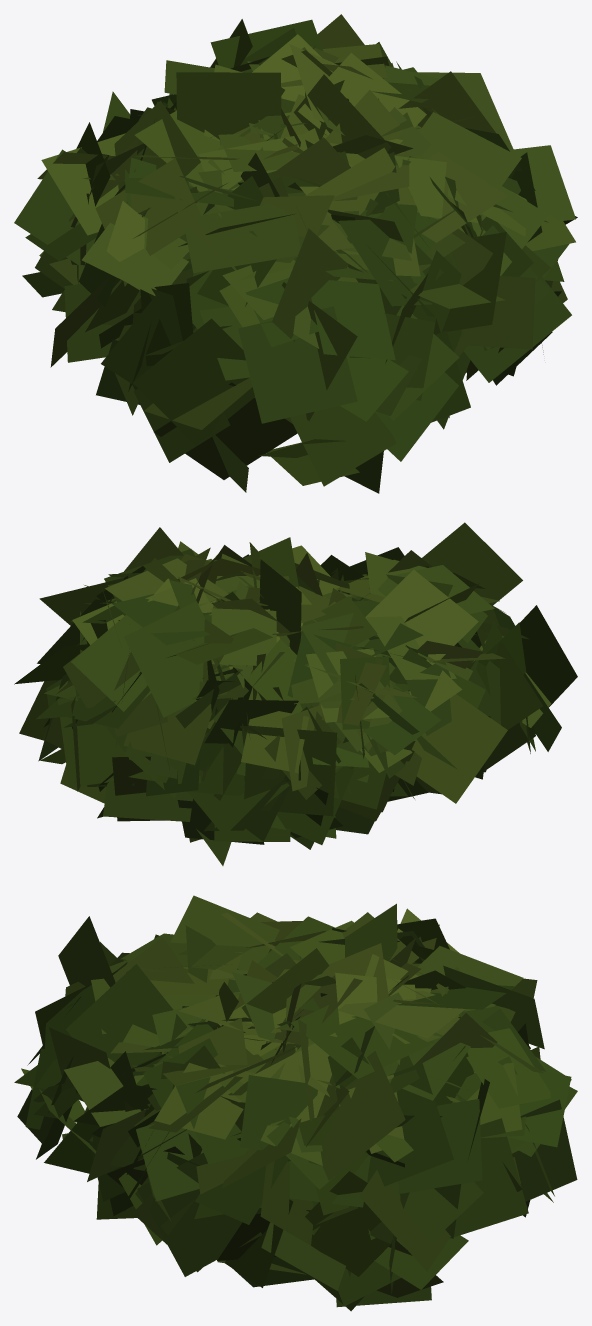
The model's file is PLN_Bush_Sage.fbx.
The picture shows the model from 3 angles, top to bottom: view 1: azimuth 30°, elevation 25°; view 2: azimuth 150°, elevation 25°; view 3: azimuth 270°, elevation 25°; orthographic projection. The views are drawn at different scales.
Parts seen in each view (by area): view 1: PLN_Bush_Sage; view 2: PLN_Bush_Sage; view 3: PLN_Bush_Sage.
Boxes of the visible parts, <box> form: PLN_Bush_Sage: <box>14,14,577,493</box>; PLN_Bush_Sage: <box>14,522,577,865</box>; PLN_Bush_Sage: <box>14,895,577,1311</box>.
Bounding box in the file's own units: 3.01 × 1.92 × 3.03.
